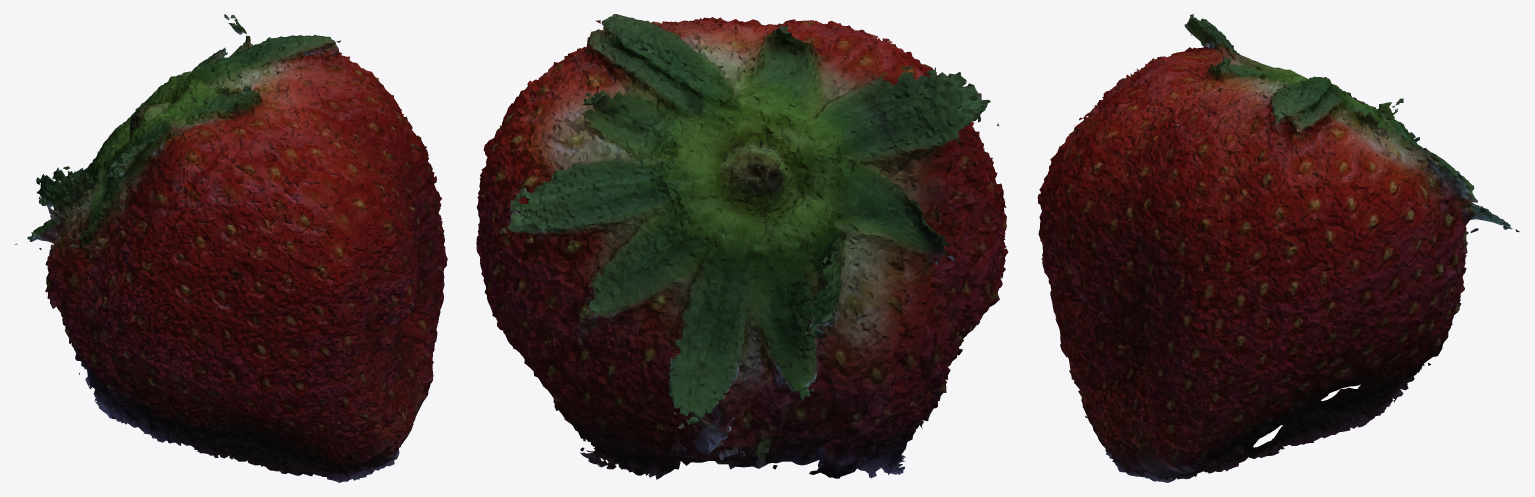
File: fresamodelo.glb
3 views of the same model, side by side, from view 1: azimuth 30°, elevation 25°; view 2: azimuth 150°, elevation 25°; view 3: azimuth 270°, elevation 25° (orthographic). The views are drawn at different scales.
Bounding box in the file's own units: 2.29 × 2.25 × 2.66.
1 material, 1 textured.
